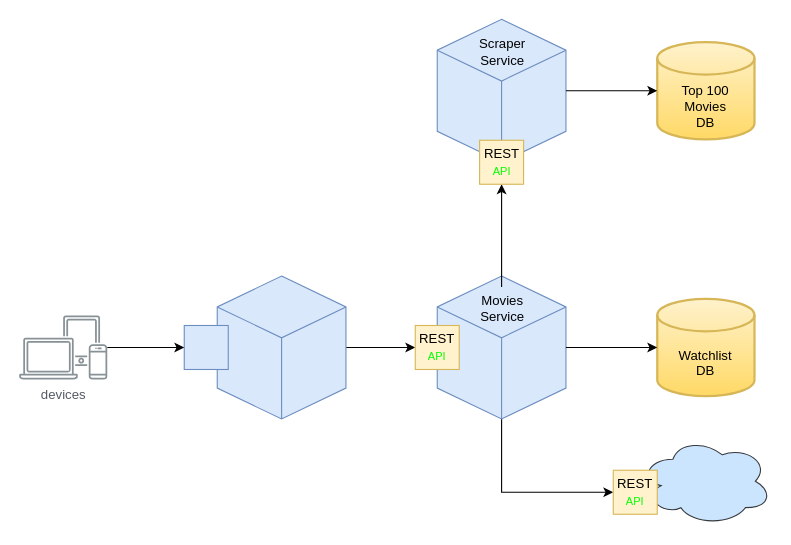
Some shapes in this 791 by 545 pixel diagram are drawn without their labels. The shapes that lost their labels are listed below. From the top down, each one's centre as x and y in pixels, then its label:
At point 205,346: "Web".
At point 281,347: "WebApp".
At point 705,480: "OMDb API".
